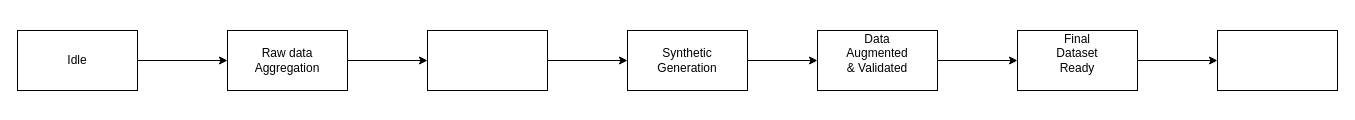
This 1355x120 diagram has some shape labels left out. Each missing label, with the centre of its shape:
Prediction is being made: point (1277, 60)
Preprocessed data: point (487, 60)
